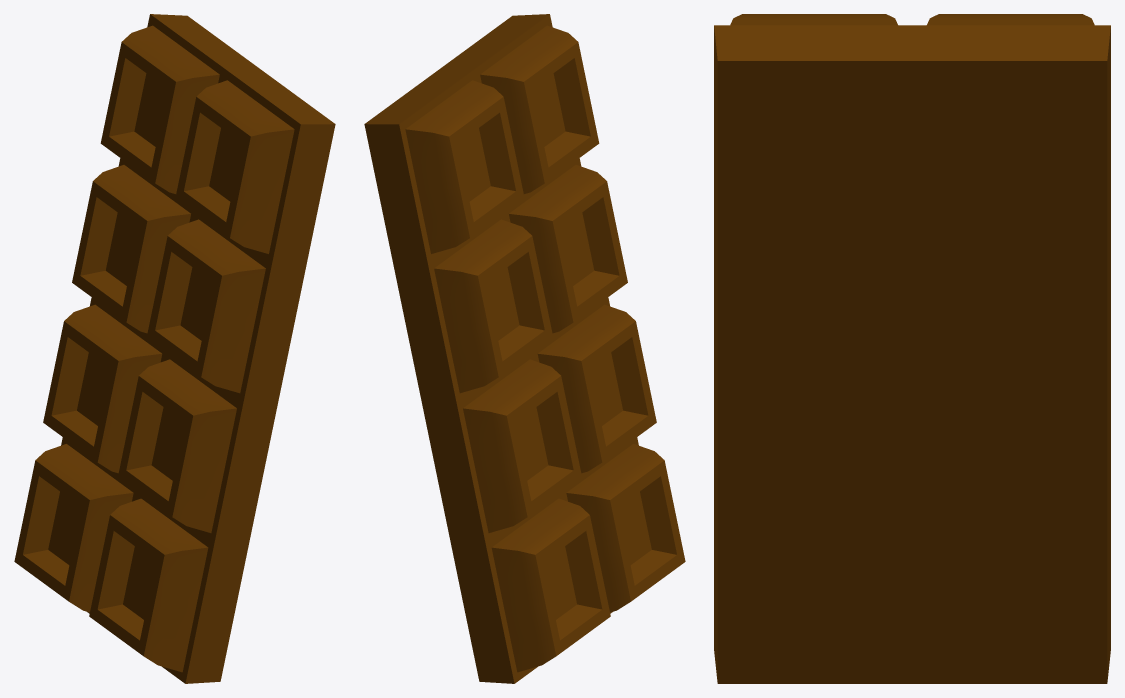
The model's file is Chocolate.fbx.
3 renders of one model, left to right at view 1: azimuth 30°, elevation 25°; view 2: azimuth 150°, elevation 25°; view 3: azimuth 270°, elevation 25°, orthographic. The views are drawn at different scales.
Parts seen in each view (by area): view 1: pasted__pCube1; view 2: pasted__pCube1; view 3: pasted__pCube1.
Boxes of the visible parts, box(x1,y1,x2,y2) form: pasted__pCube1: box(14, 14, 335, 683); pasted__pCube1: box(364, 14, 685, 683); pasted__pCube1: box(714, 14, 1110, 683).
Bounding box in the file's own units: 1.3 × 3.67 × 1.86.
